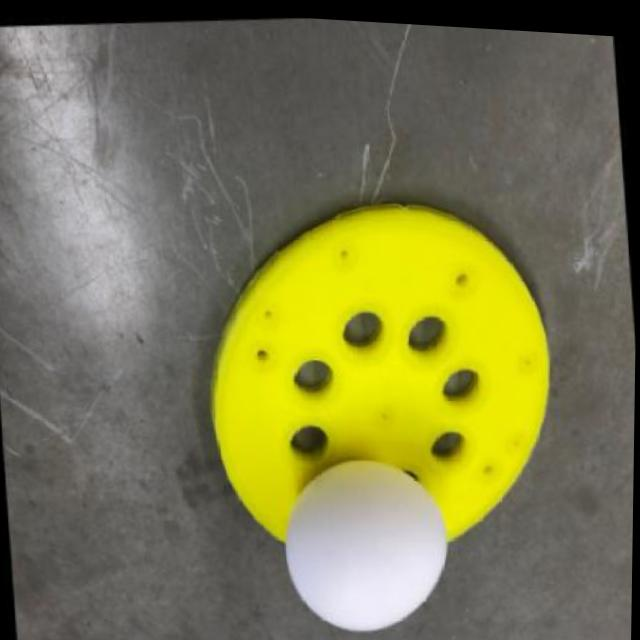egg: (276, 443, 460, 640)
